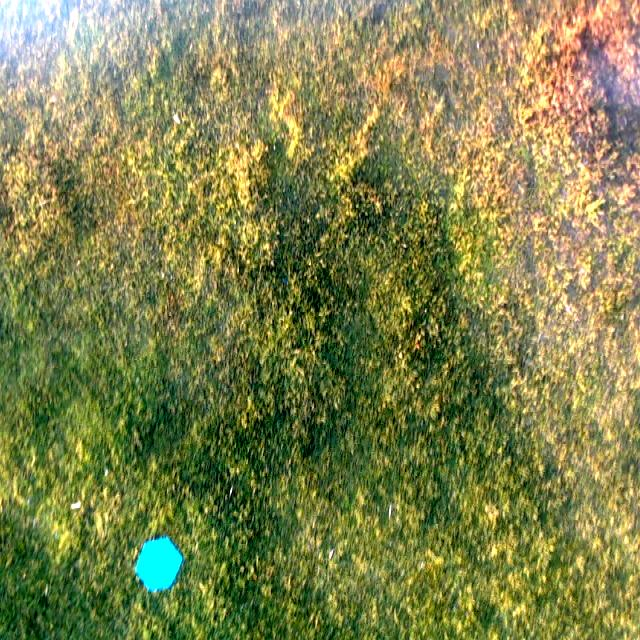blue_hexagon: (135, 537, 183, 592)
